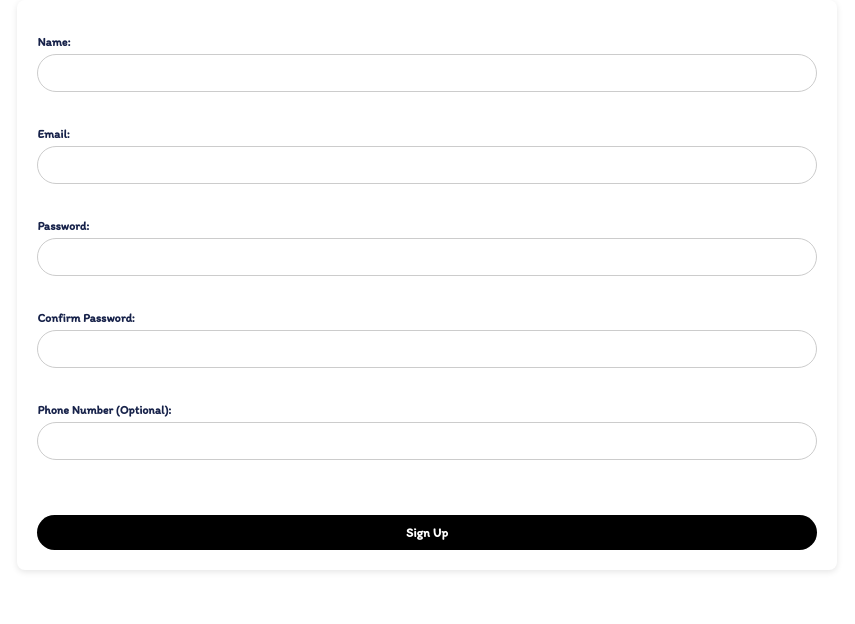
SignupForm › displays an error message if required fields are not filled
Step 1. Click the button "Sign Up" → [427, 532], box [37,515,817,550]
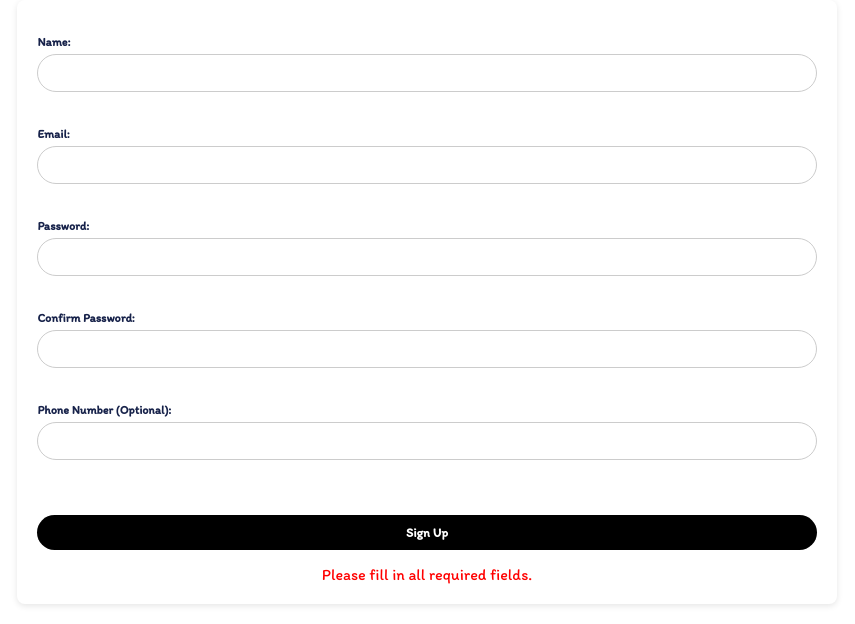
Expected: the text "Please fill in all required fields." is shown, [322,565,532,584]
